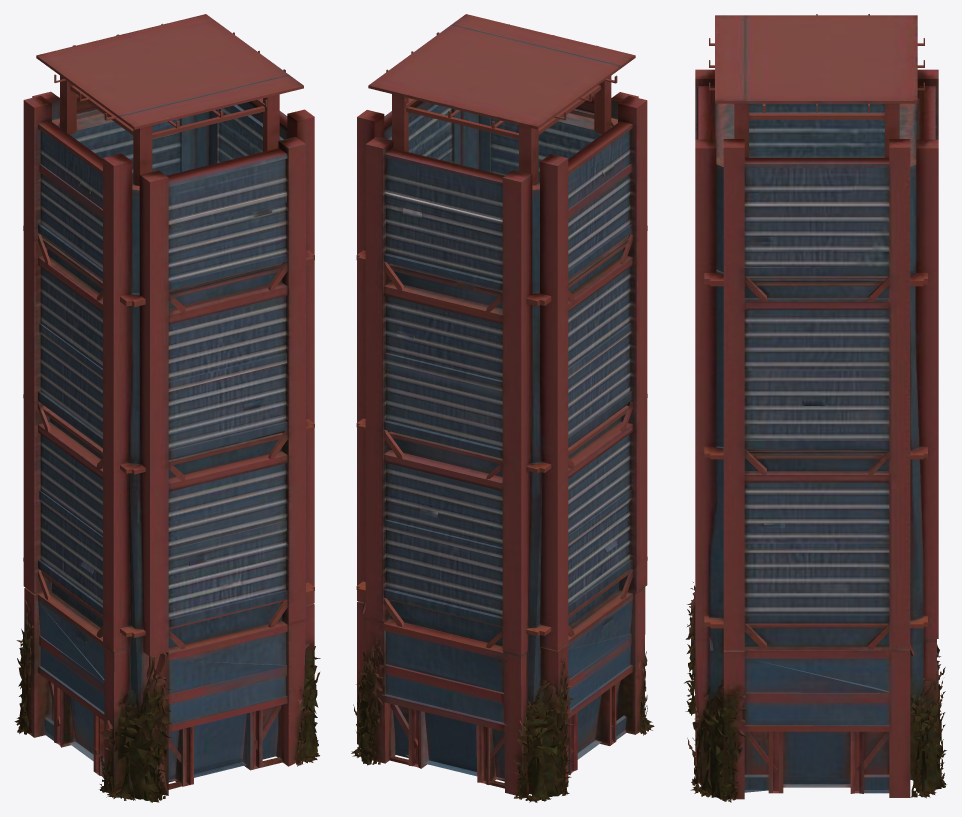
The model's file is yeouido-red-frame-tower.glb.
3 views of the same model, side by side, from view 1: azimuth 30°, elevation 25°; view 2: azimuth 150°, elevation 25°; view 3: azimuth 270°, elevation 25° (orthographic). The views are drawn at different scales.
Parts seen in each view (by area): view 1: tripo_node_3c0c51d0-2023-4503-b51f-0dd29d9cc293; view 2: tripo_node_3c0c51d0-2023-4503-b51f-0dd29d9cc293; view 3: tripo_node_3c0c51d0-2023-4503-b51f-0dd29d9cc293.
Boxes of the visible parts, x1,y1,x2,y2 form: tripo_node_3c0c51d0-2023-4503-b51f-0dd29d9cc293: (14,14,320,802); tripo_node_3c0c51d0-2023-4503-b51f-0dd29d9cc293: (351,14,654,802); tripo_node_3c0c51d0-2023-4503-b51f-0dd29d9cc293: (684,14,946,802).
Bounding box in the file's own units: 0.3418 × 0.998 × 0.3457.
1 material, 1 textured.
